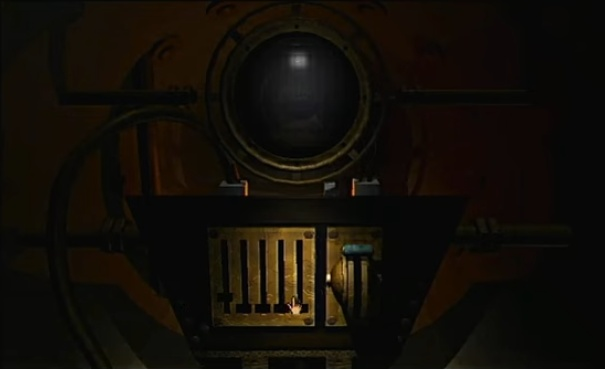Pointer: (284, 295, 306, 317)
